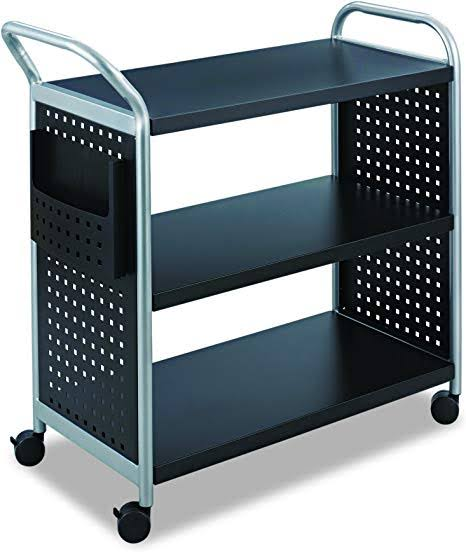Carts: (3, 1, 466, 547)
